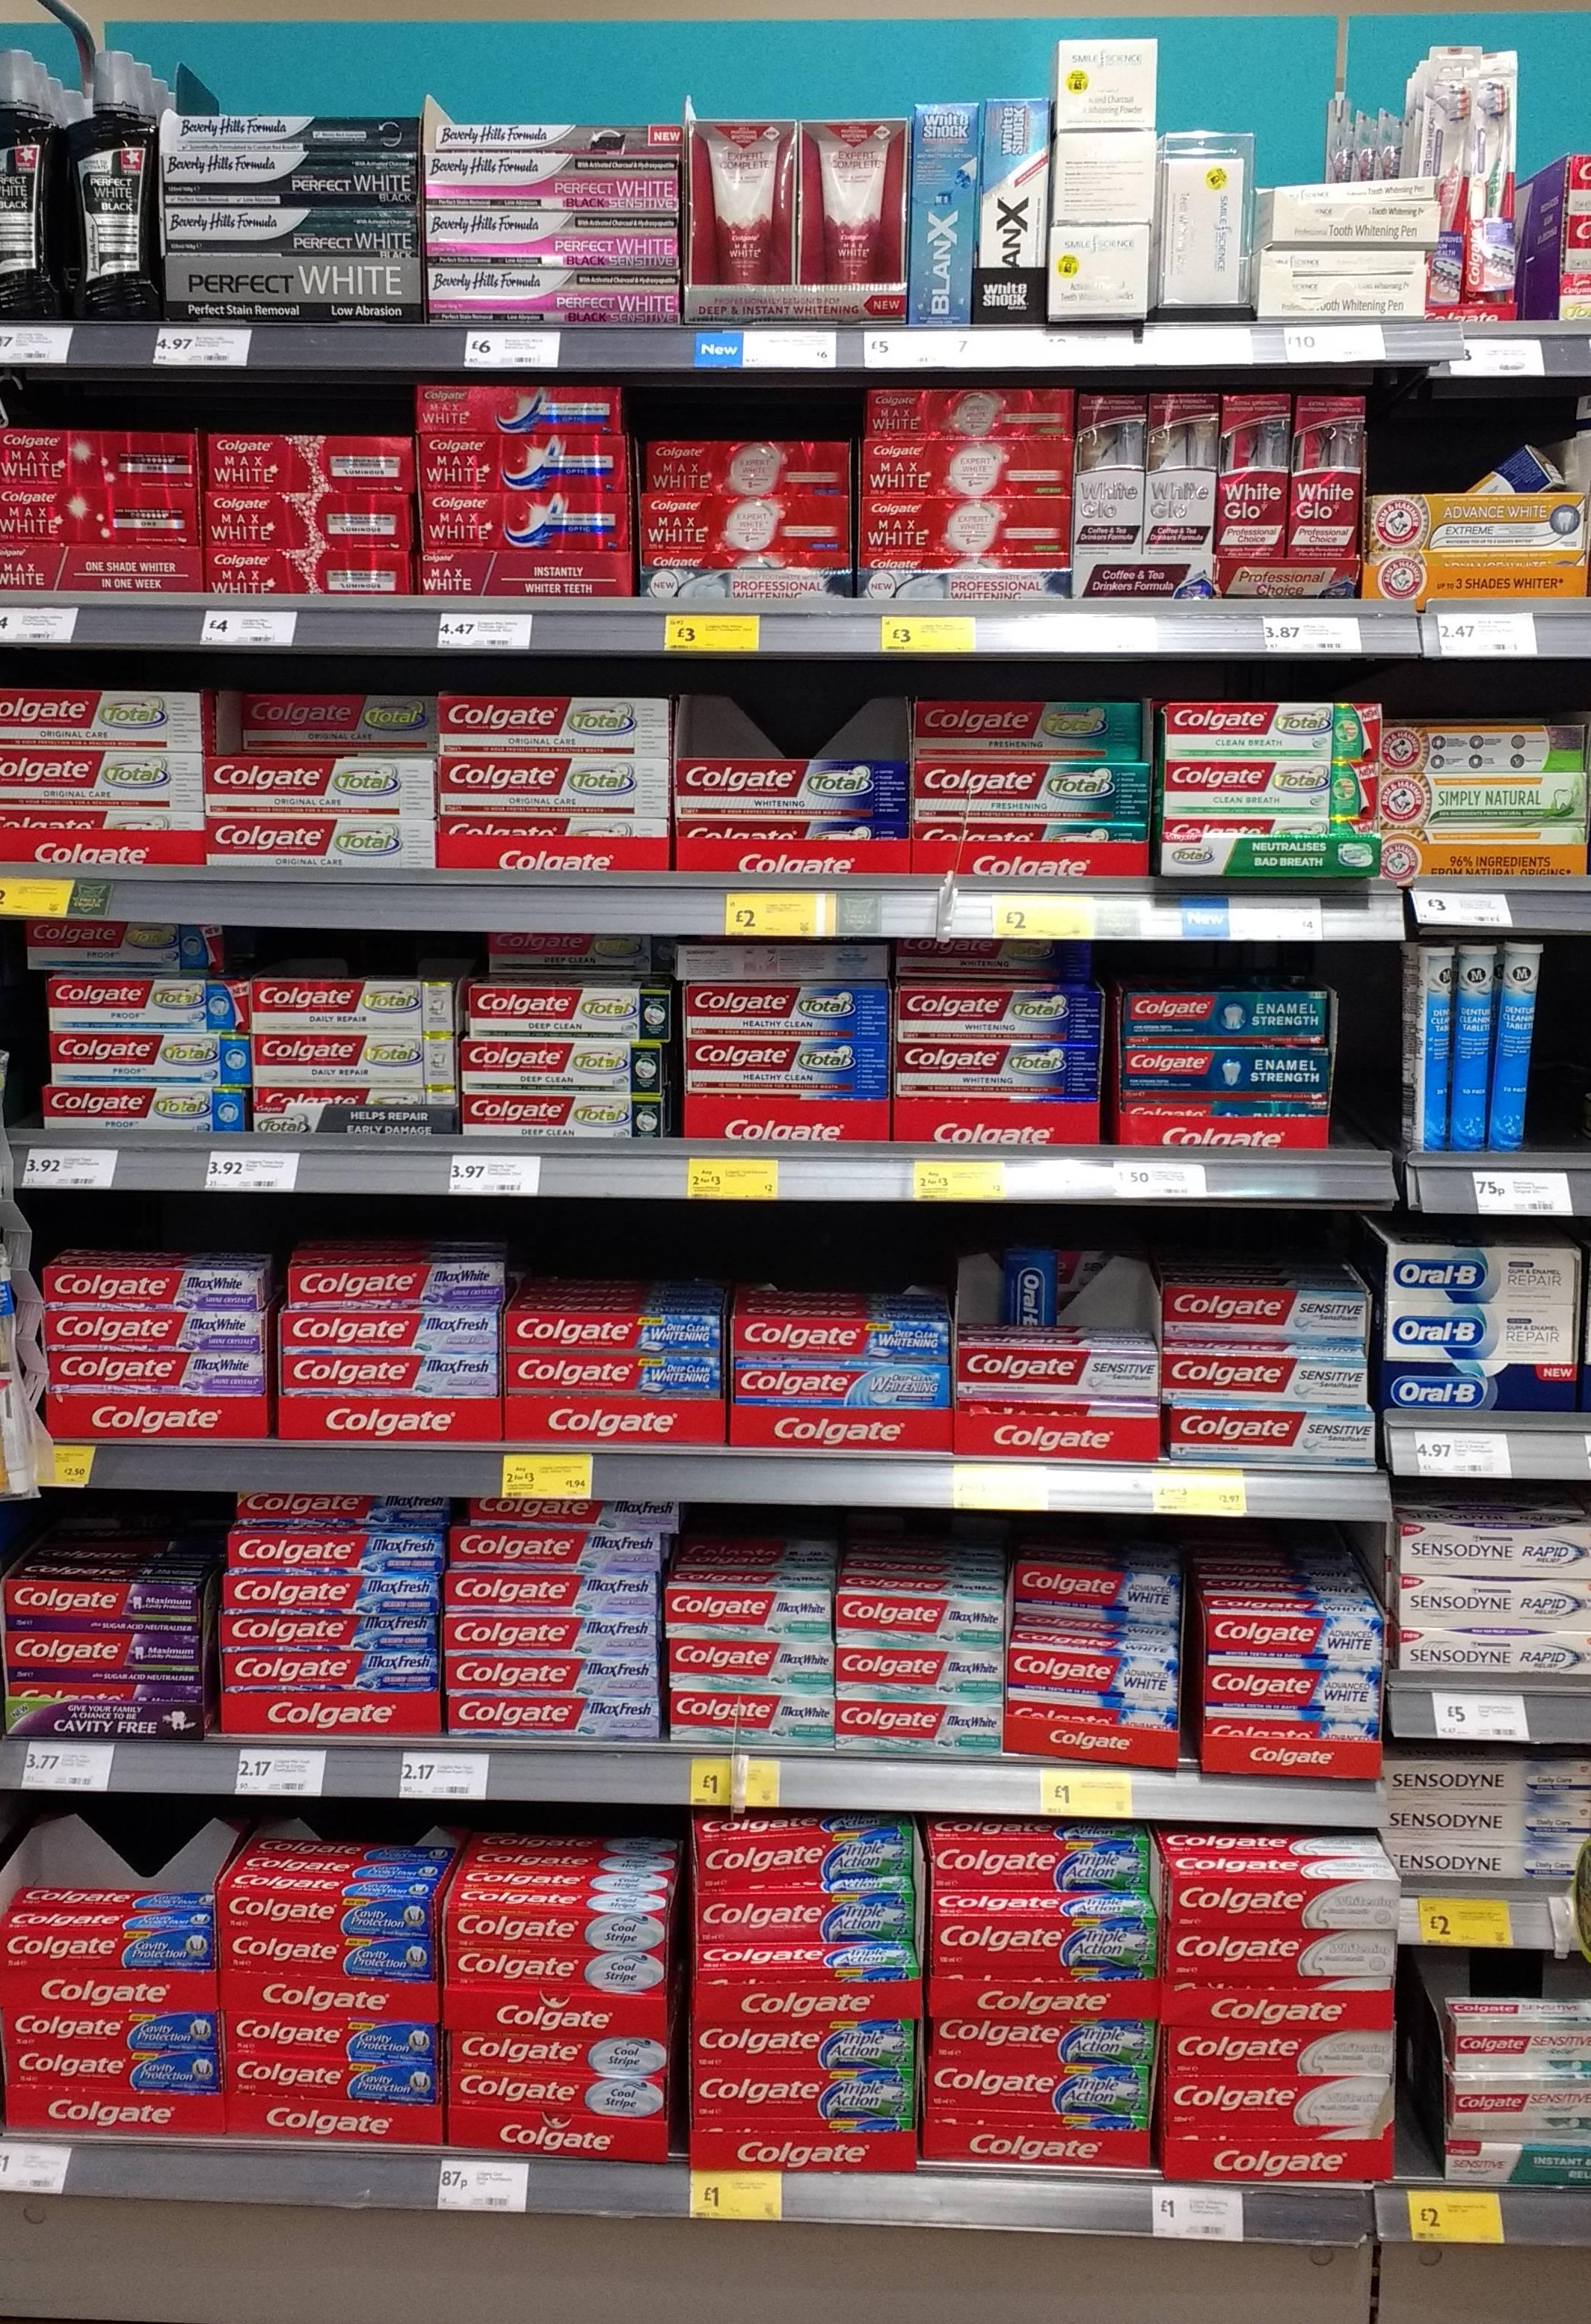empty: (1549, 952, 1587, 1143)
misalignment: (1118, 962, 1391, 1153)
